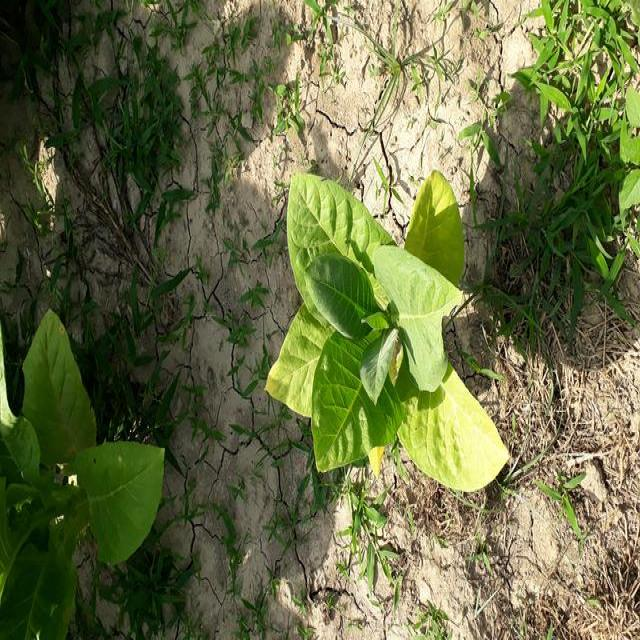crop: (269, 169, 508, 496), (0, 308, 162, 618)
